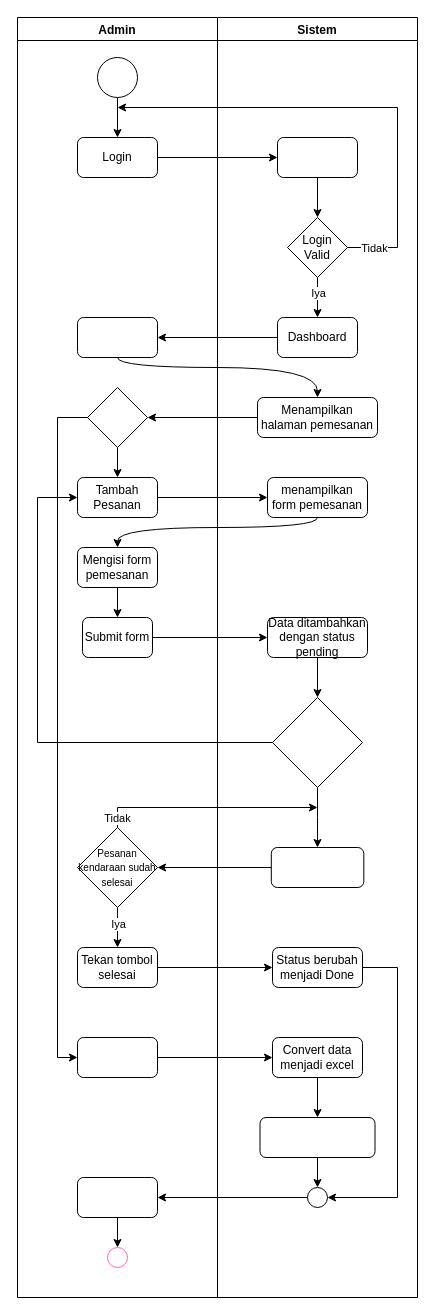
This 435x1315 diagram has some shape labels left out. Here are the shapes that lost their labels. From the top down, the centre of each, then its label:
At (317,157): "Verivikasi".
At (117,337): "Pilih menu pemesanan".
At (117,417): "Pilih aksi".
At (317,742): "Data disetujui oleh atasan 1 dan atasan 2".
At (317,867): "Status berubah menjadi approve".
At (117,1057): "Ekstrak data pemesanan".
At (317,1137): "Data disimpan di dalam penyimpanan".
At (117,1197): "Logout".
